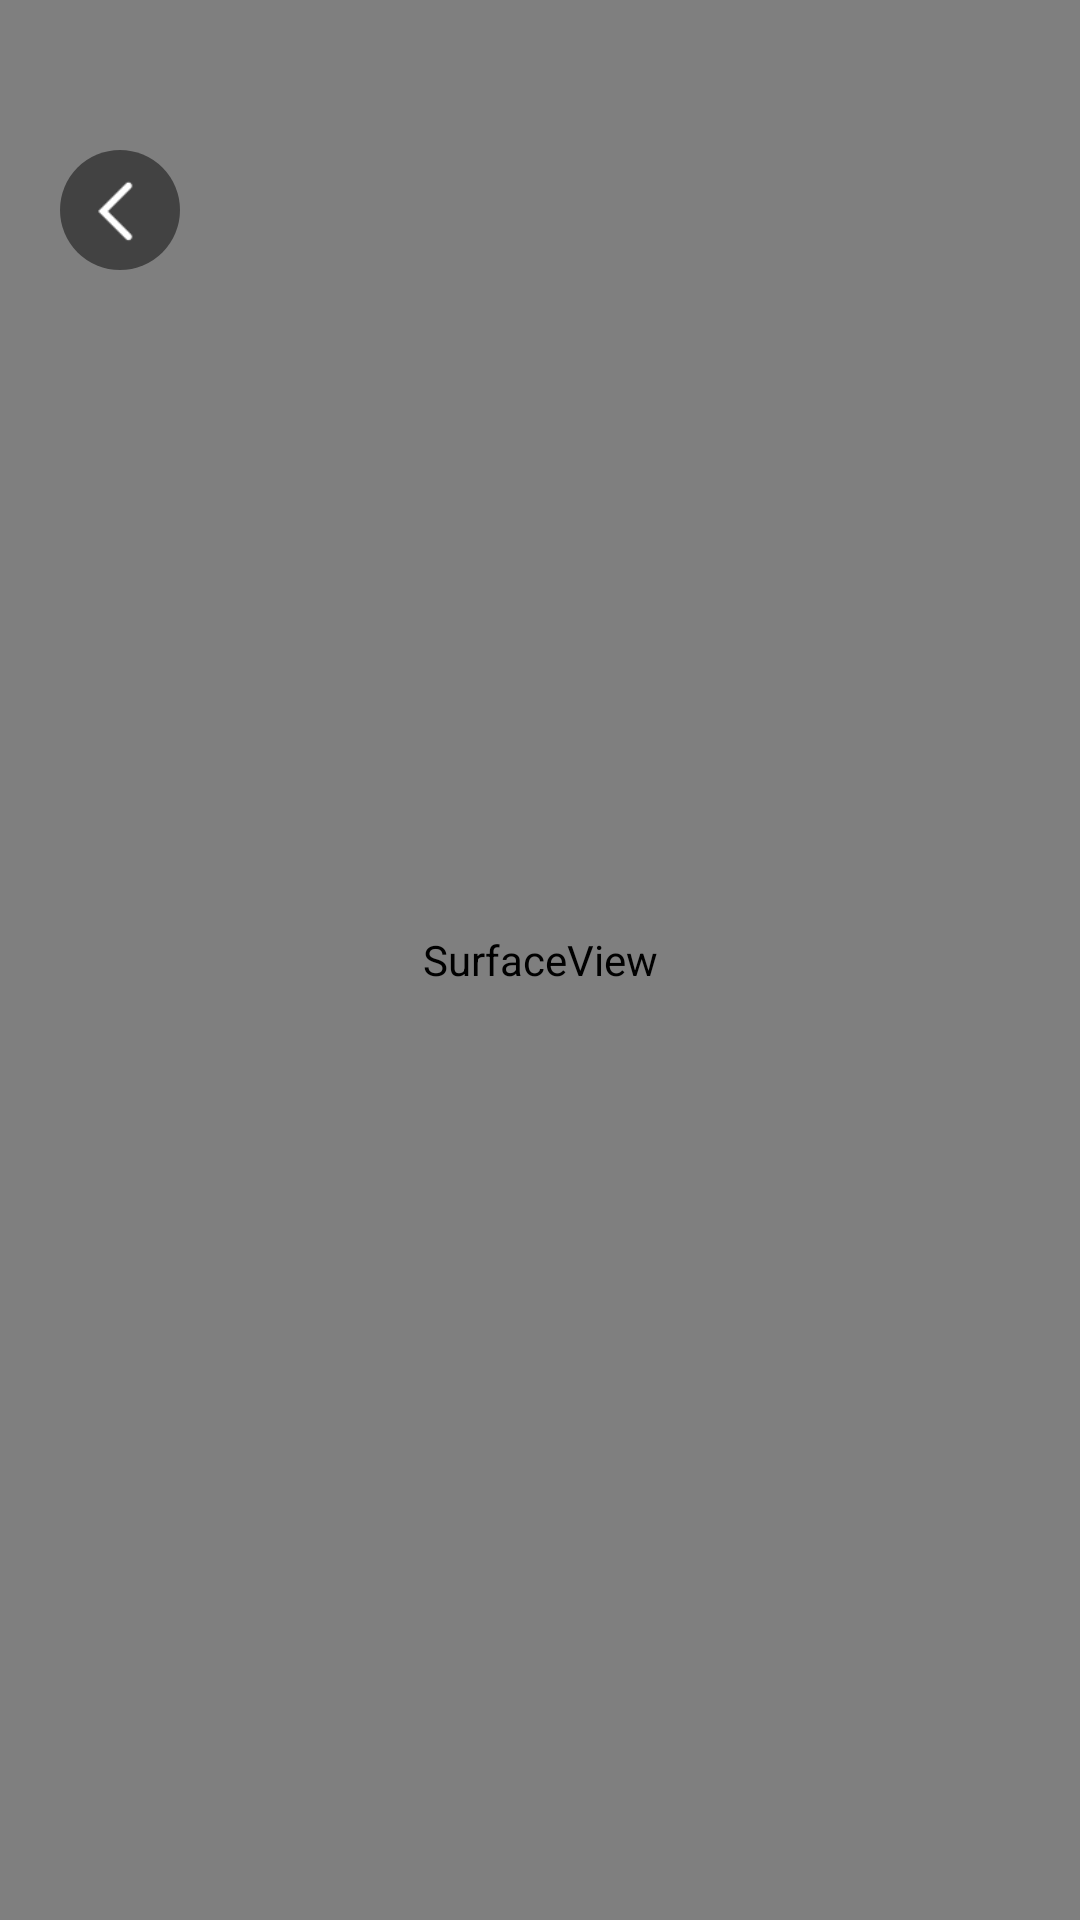

Where to tap for icons on this 1080*1920 app screen, as (x=x, y=y):
back: (x=120, y=210)
